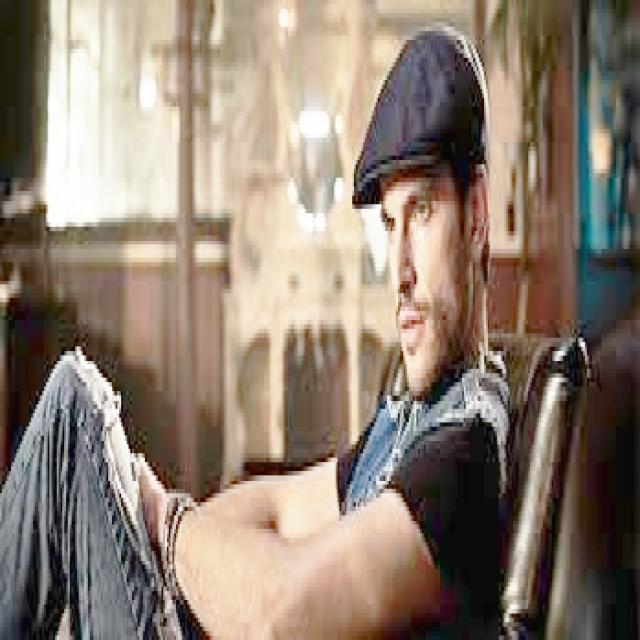TOPI: (345, 13, 491, 214)
